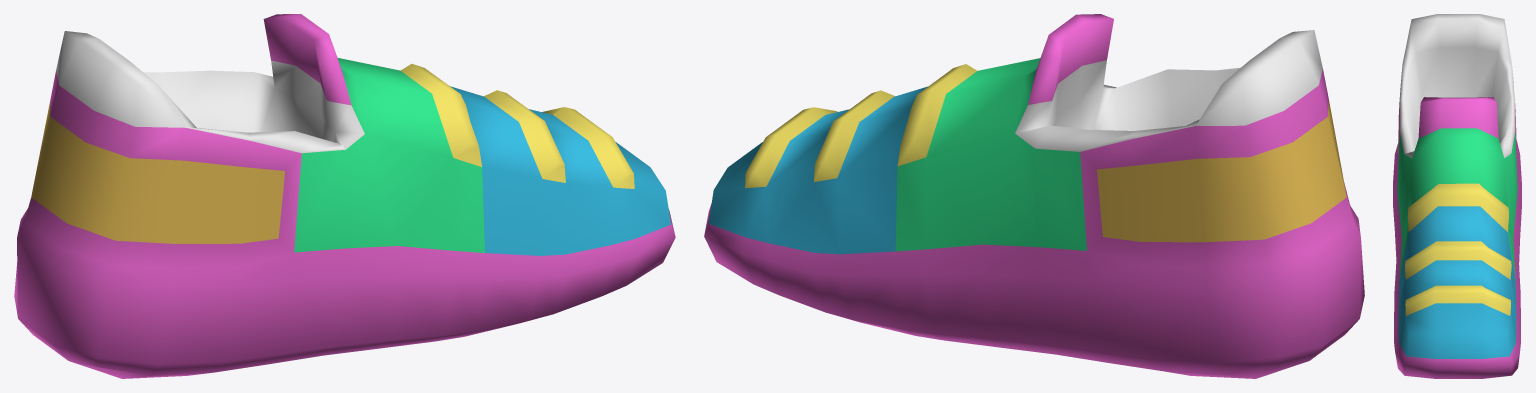
The model's file is ayakkabi3 duz.fbx.
3 views of the same model, side by side, from view 1: azimuth 30°, elevation 25°; view 2: azimuth 150°, elevation 25°; view 3: azimuth 270°, elevation 25° (orthographic). The views are drawn at different scales.
Parts seen in each view (by area): view 1: Plane.003; view 2: Plane.003; view 3: Plane.003.
Boxes of the visible parts, x1,y1,x2,y2 form: Plane.003: (14, 14, 675, 378); Plane.003: (704, 14, 1364, 378); Plane.003: (1393, 14, 1521, 378).
Size of the model in its own units: 508 by 270 by 144.
